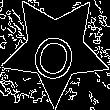O_N: (28, 18, 83, 81)
